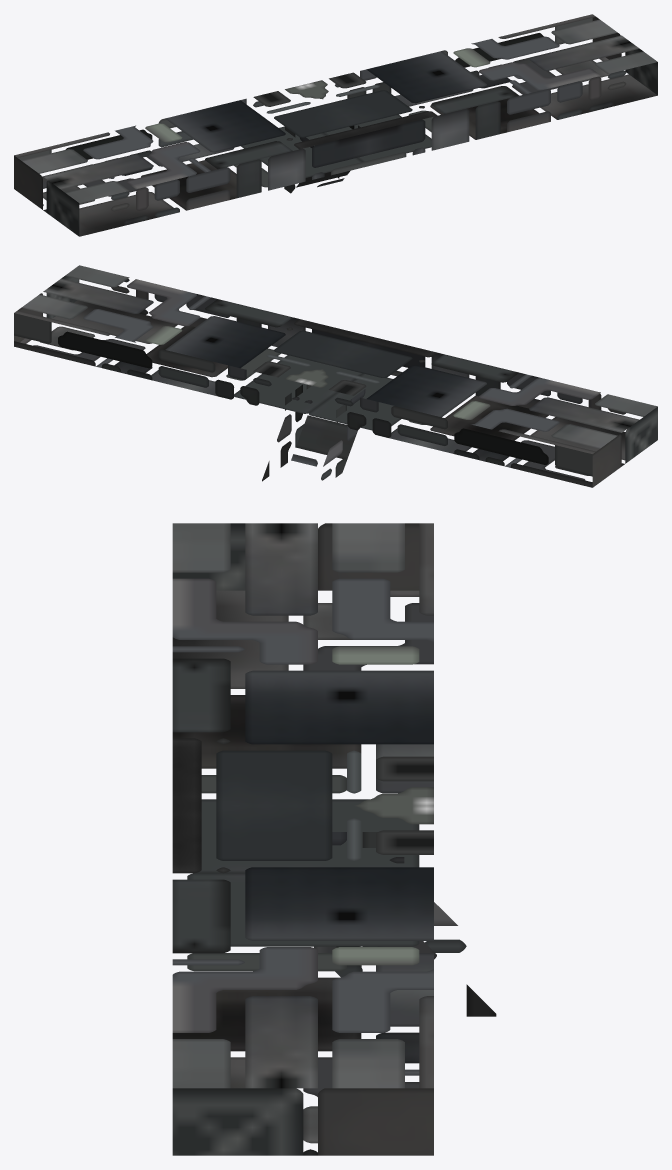
The model's file is bolster.obj.
3 views of the same model, one above another, from view 1: azimuth 30°, elevation 25°; view 2: azimuth 150°, elevation 25°; view 3: azimuth 270°, elevation 25° (orthographic). The views are drawn at different scales.
Visible parts, largest first — view 1: 704bcbeb-b0f5-cfb5-ecc2-448490368e40, 1a81eec5-7f45-7617-5ed5-813fb1be3c3e, 3fb17a22-b80a-464a-c945-43b3410cd1a3; view 2: 704bcbeb-b0f5-cfb5-ecc2-448490368e40, 1a81eec5-7f45-7617-5ed5-813fb1be3c3e, 3fb17a22-b80a-464a-c945-43b3410cd1a3; view 3: 1a81eec5-7f45-7617-5ed5-813fb1be3c3e, 704bcbeb-b0f5-cfb5-ecc2-448490368e40, 3fb17a22-b80a-464a-c945-43b3410cd1a3.
Part boxes in pixels (<box>): 704bcbeb-b0f5-cfb5-ecc2-448490368e40: <box>14,85,368,236</box>; 1a81eec5-7f45-7617-5ed5-813fb1be3c3e: <box>303,14,657,165</box>; 3fb17a22-b80a-464a-c945-43b3410cd1a3: <box>284,125,360,193</box>; 704bcbeb-b0f5-cfb5-ecc2-448490368e40: <box>304,336,657,487</box>; 1a81eec5-7f45-7617-5ed5-813fb1be3c3e: <box>14,265,368,413</box>; 3fb17a22-b80a-464a-c945-43b3410cd1a3: <box>262,384,365,481</box>; 1a81eec5-7f45-7617-5ed5-813fb1be3c3e: <box>172,806,433,1155</box>; 704bcbeb-b0f5-cfb5-ecc2-448490368e40: <box>172,523,433,872</box>; 3fb17a22-b80a-464a-c945-43b3410cd1a3: <box>314,832,496,1016</box>.
Size of the model in its own units: 2.81 by 0.4313 by 0.6875.
